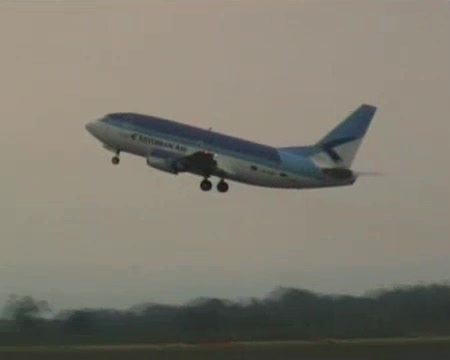aeroplane: (86, 105, 379, 194)
